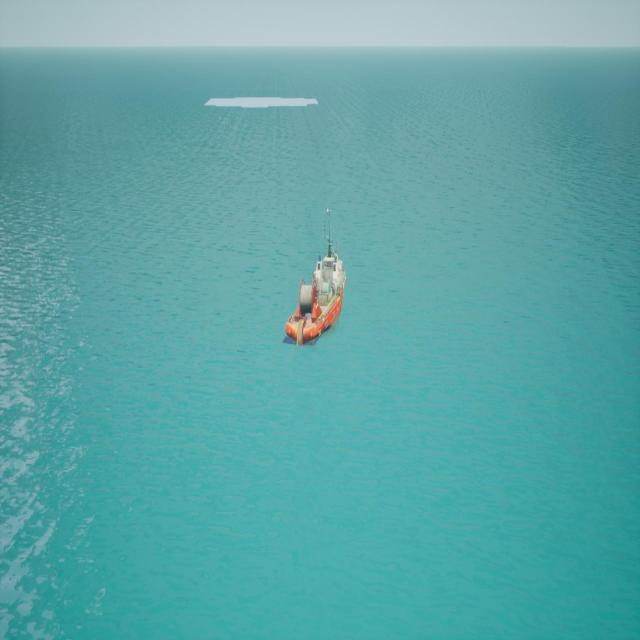tug boat: (292, 210, 347, 351)
